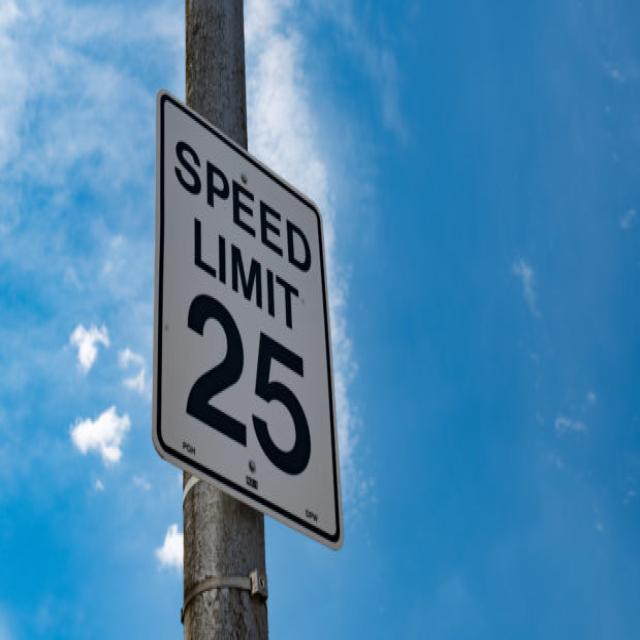Speed Limit Signs: (147, 84, 348, 556)
